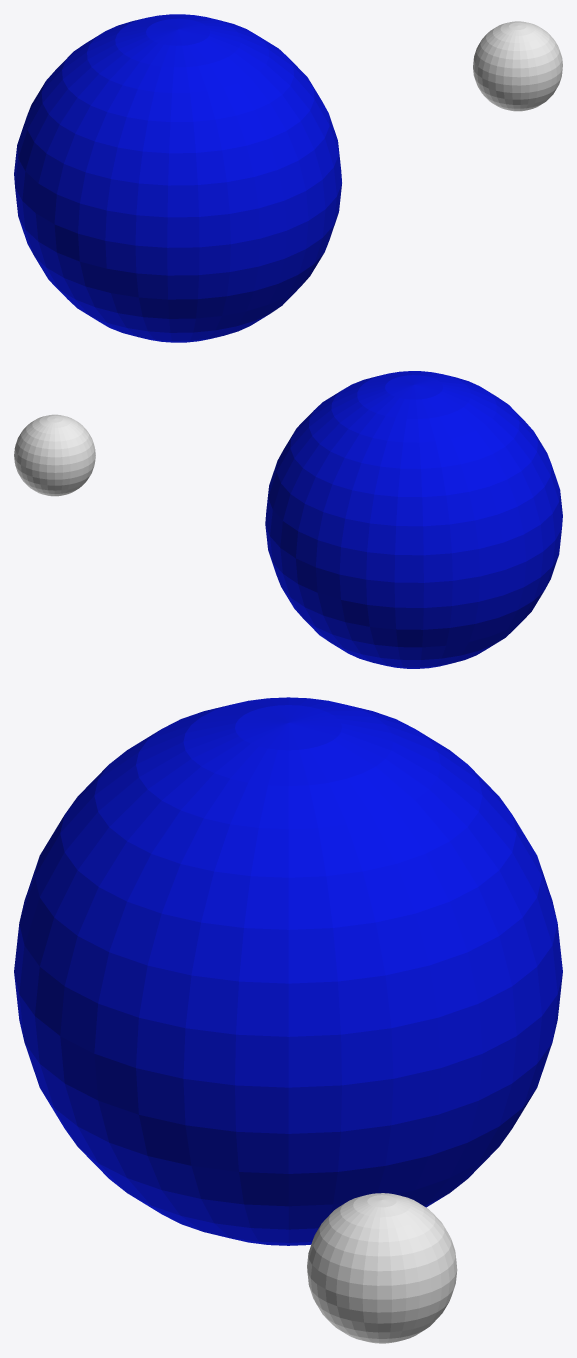
The model's file is HydrogenModel.glb.
3 views of the same model, one above another, from view 1: azimuth 30°, elevation 25°; view 2: azimuth 150°, elevation 25°; view 3: azimuth 270°, elevation 25° (orthographic). The views are drawn at different scales.
Visible parts, largest first — view 1: Sphere, Sphere.001; view 2: Sphere, Sphere.001; view 3: Sphere, Sphere.001.
Boxes of the visible parts, bbox=[...] form: Sphere: bbox=[14, 14, 341, 342]; Sphere.001: bbox=[473, 21, 562, 111]; Sphere: bbox=[265, 371, 562, 668]; Sphere.001: bbox=[14, 414, 95, 496]; Sphere: bbox=[14, 697, 562, 1245]; Sphere.001: bbox=[307, 1193, 457, 1343].
Size of the model in its own units: 3.86 by 2 by 2.
